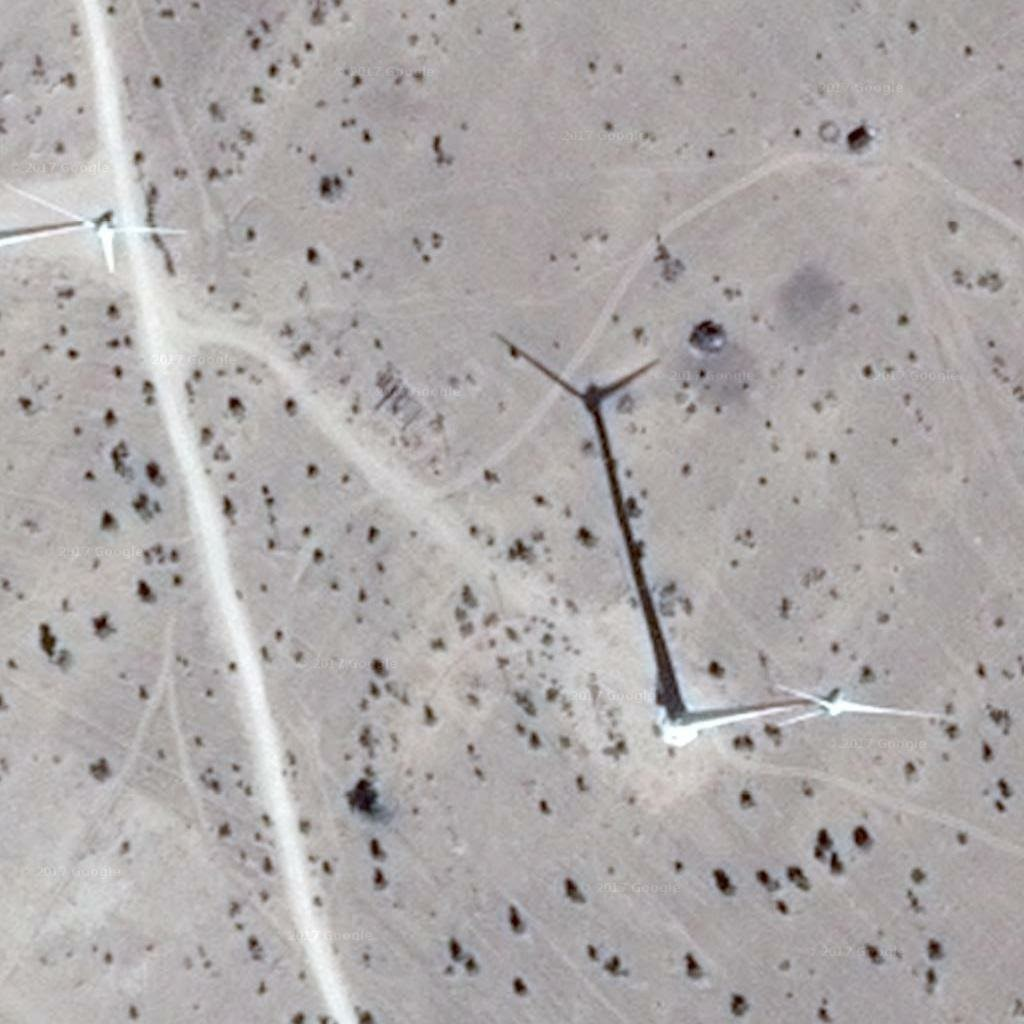Windmill: (489, 330, 706, 710)
